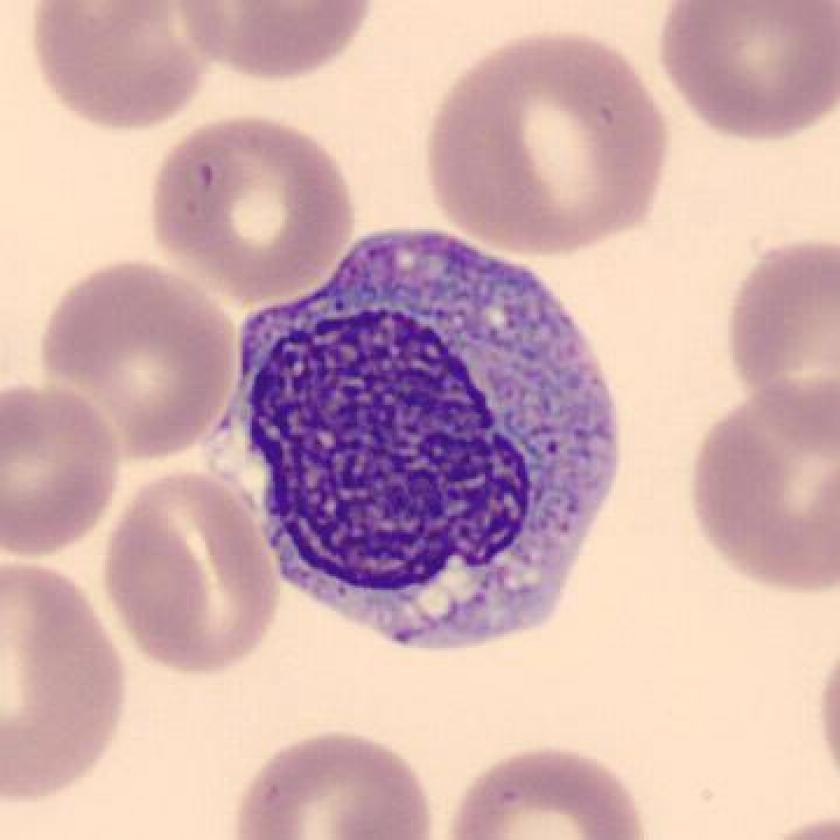monocyte: (200, 207, 641, 670)
